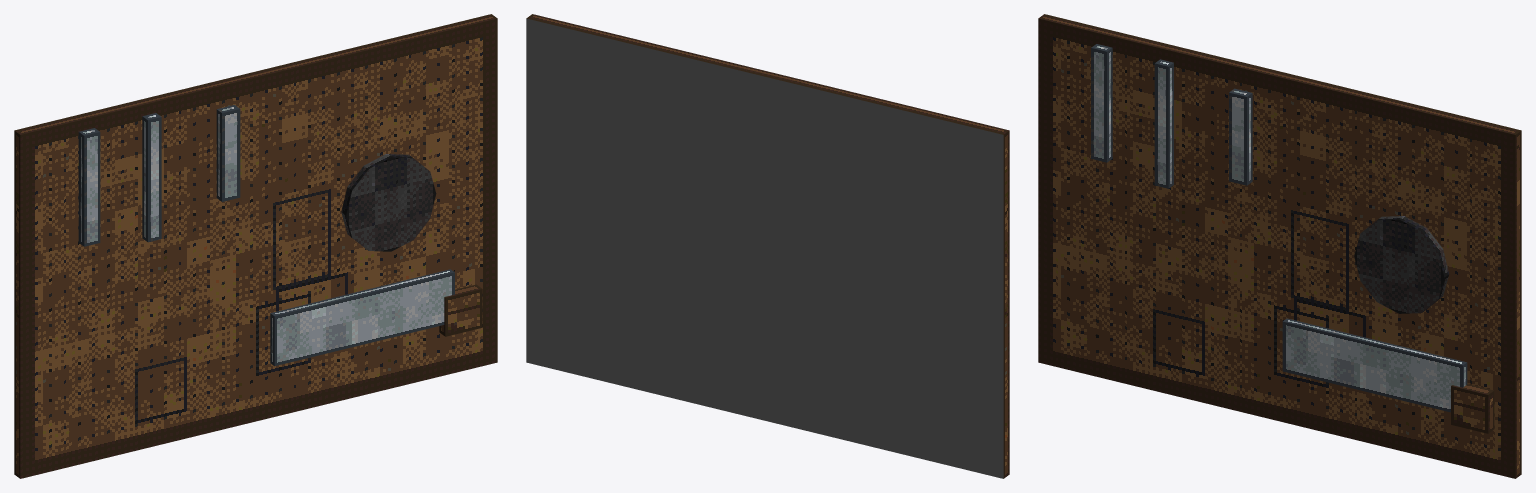
The model's file is SM_ToolBoard_01.glb.
The picture shows the model from 3 angles, left to right: view 1: azimuth 30°, elevation 25°; view 2: azimuth 150°, elevation 25°; view 3: azimuth 330°, elevation 25°; orthographic projection.
Visible parts, largest first — view 1: SM_ToolBoard_01; view 2: SM_ToolBoard_01; view 3: SM_ToolBoard_01.
Part boxes in pixels (x1=…): SM_ToolBoard_01: x1=14, y1=14, x2=497, y2=478; SM_ToolBoard_01: x1=526, y1=14, x2=1009, y2=478; SM_ToolBoard_01: x1=1038, y1=14, x2=1521, y2=478.
Bounding box in the file's own units: 0.9 × 0.62 × 0.04.
1 material, 1 textured.
